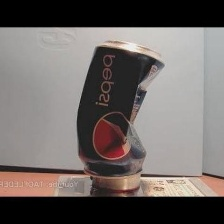can: (68, 36, 169, 179)
